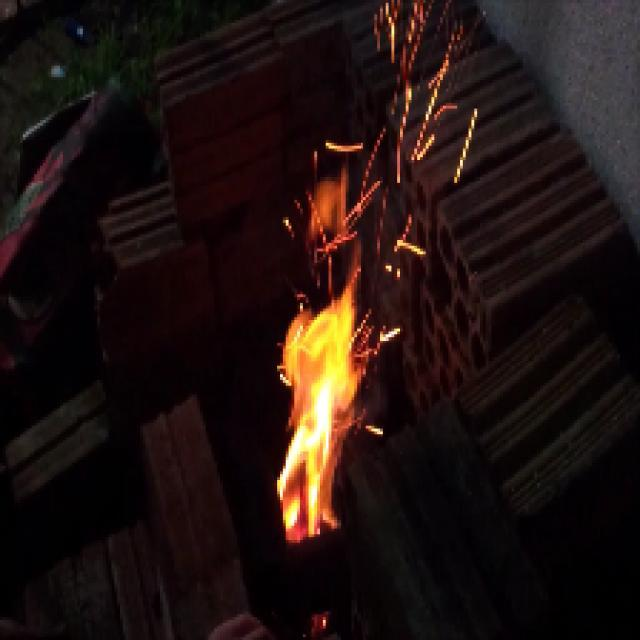Fire: (276, 145, 374, 548)
